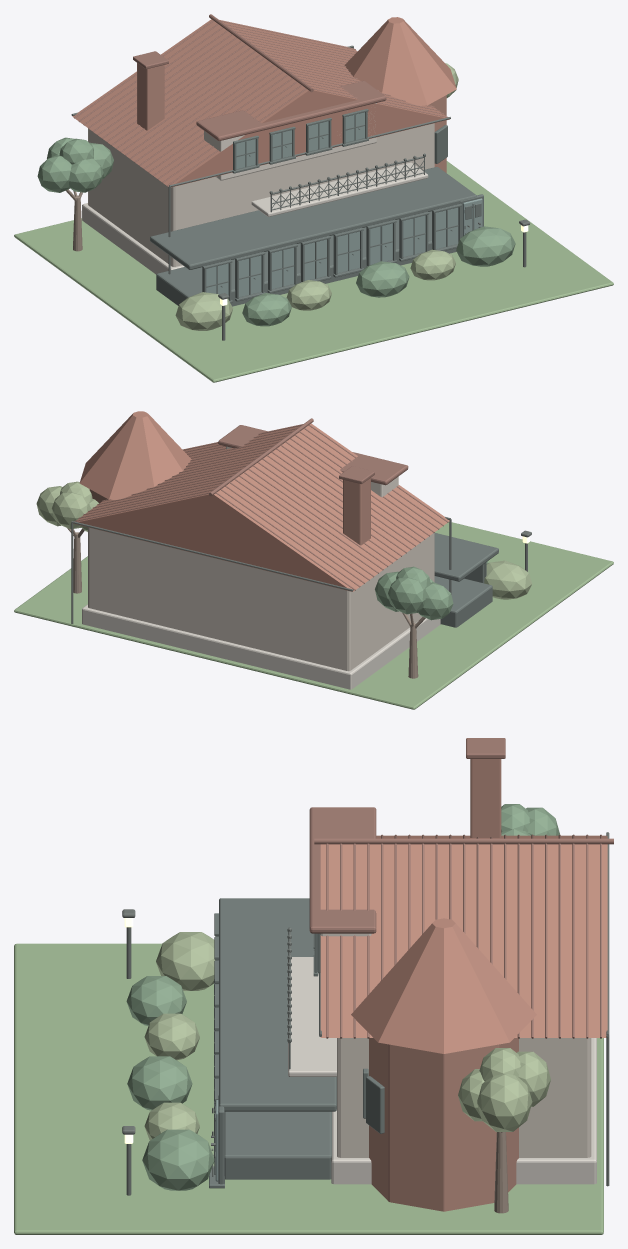
File: xinhua-villas-329.glb
3 renders of one model, top to bottom at view 1: azimuth 30°, elevation 25°; view 2: azimuth 150°, elevation 25°; view 3: azimuth 270°, elevation 25°, orthographic. The views are drawn at different scales.
Visible parts, largest first — view 1: xinhua-villas-329; view 2: xinhua-villas-329; view 3: xinhua-villas-329.
Boxes of the visible parts, x1,y1,x2,y2 form: xinhua-villas-329: (14, 14, 613, 382); xinhua-villas-329: (14, 411, 613, 709); xinhua-villas-329: (14, 738, 613, 1234).
Bounding box in the file's own units: 22.66 × 9.76 × 19.33.
